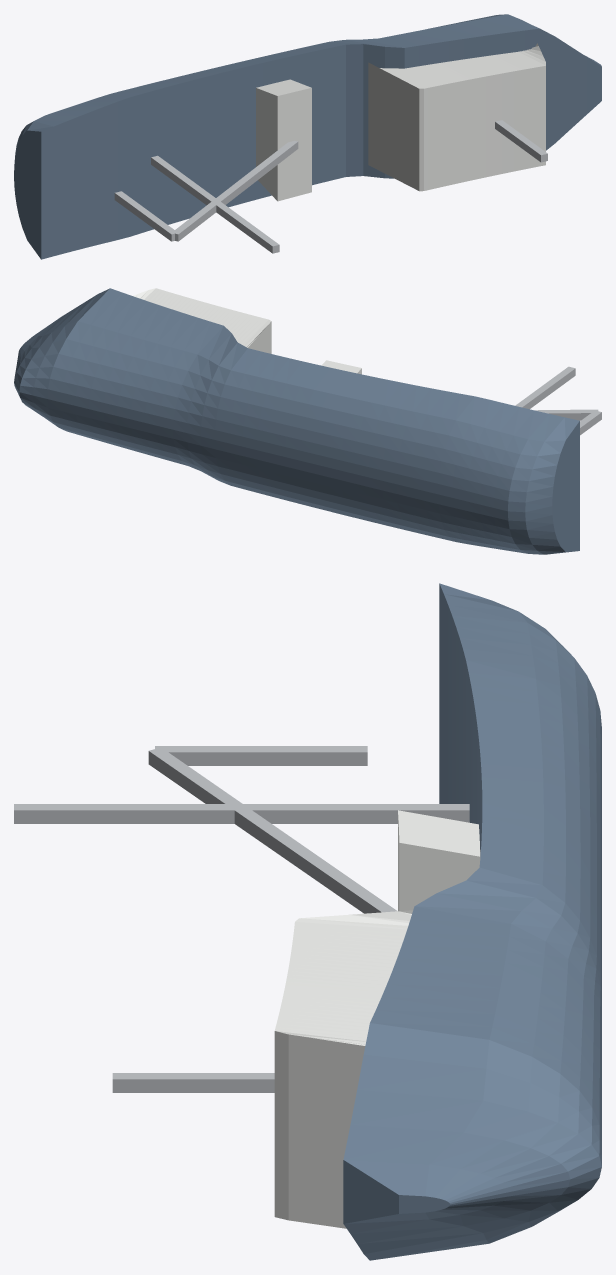
File: restricted-ability-loft-sheered.glb
The picture shows the model from 3 angles, top to bottom: view 1: azimuth 30°, elevation 25°; view 2: azimuth 150°, elevation 25°; view 3: azimuth 270°, elevation 25°; orthographic projection. The views are drawn at different scales.
Parts seen in each view (by area): view 1: restricted-ability-loft-sheered; view 2: restricted-ability-loft-sheered; view 3: restricted-ability-loft-sheered.
Boxes of the visible parts, x1,y1,x2,y2 form: restricted-ability-loft-sheered: (14, 14, 601, 259); restricted-ability-loft-sheered: (14, 288, 601, 554); restricted-ability-loft-sheered: (14, 583, 601, 1260).
Size of the model in its own units: 1.9 by 0.4616 by 0.9418.
